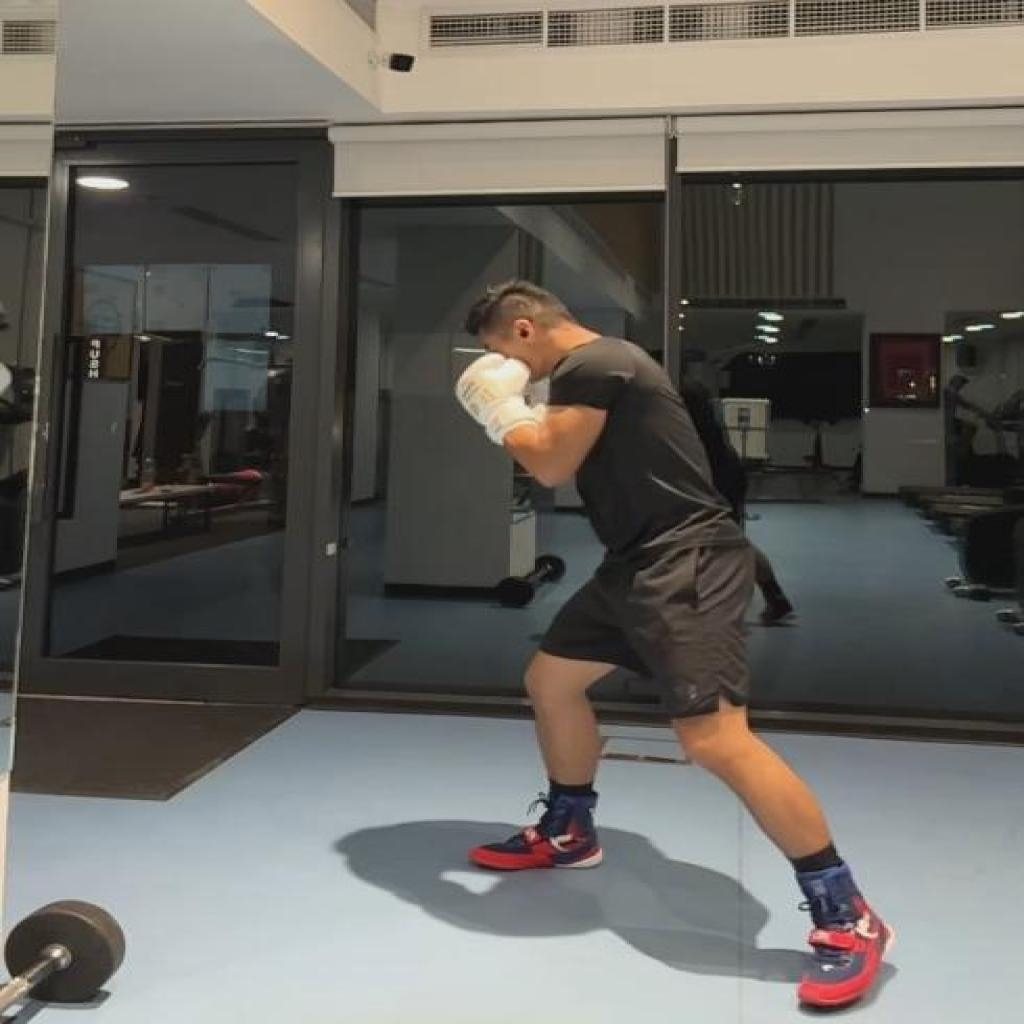no punch: (460, 277, 896, 1014)
